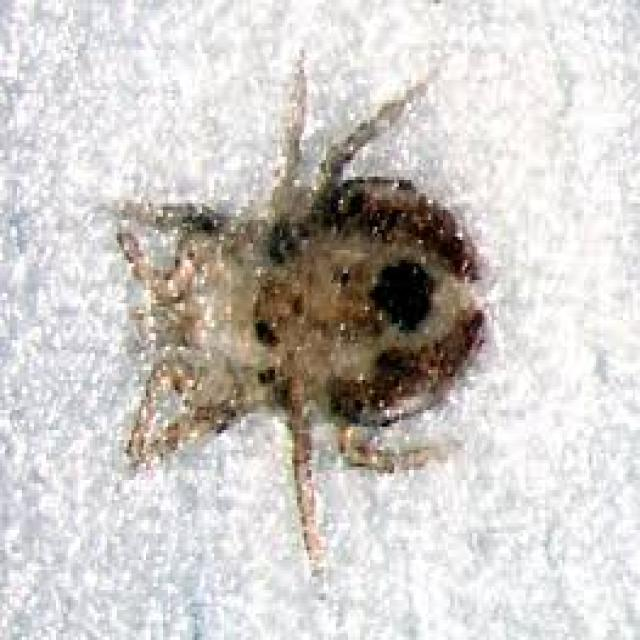Mites: (102, 43, 503, 586)
